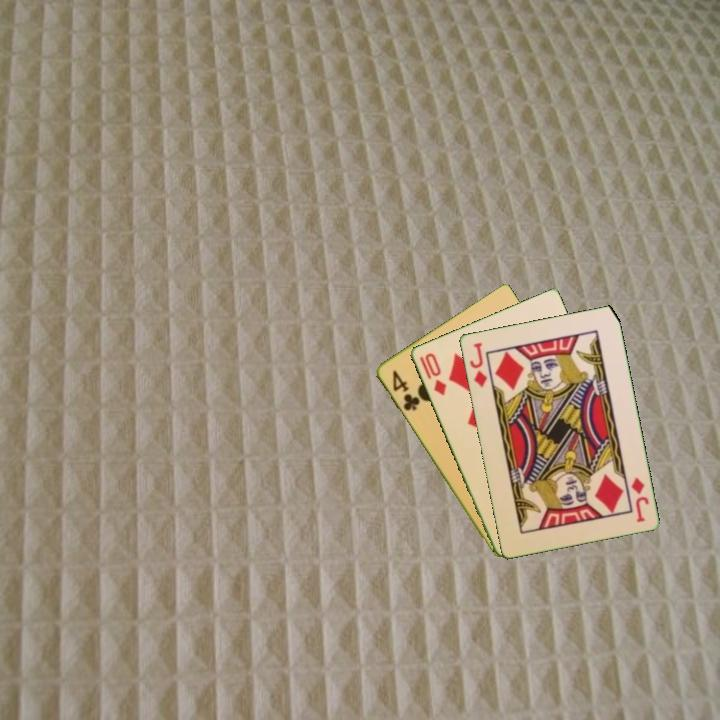10d: (416, 349, 449, 398)
4c: (388, 366, 422, 414)
Jd: (627, 474, 651, 525), (466, 339, 489, 390)
